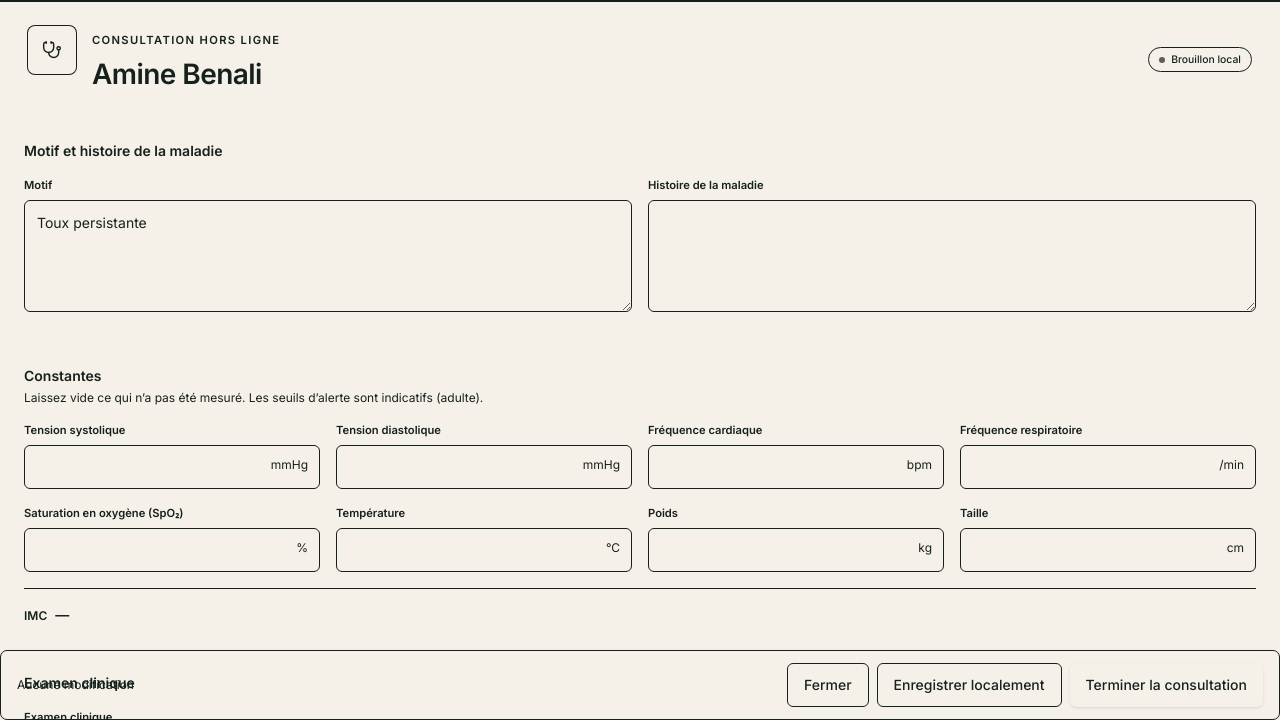
finishing the consultation › waits for a save in progress instead of losing the click (blur, then click on Terminer)
The width and height of the screenshot is (1280, 720).
Replace the text in the text box labelled "Motif" with "Toux" at (328, 256), box [24,200,632,312]
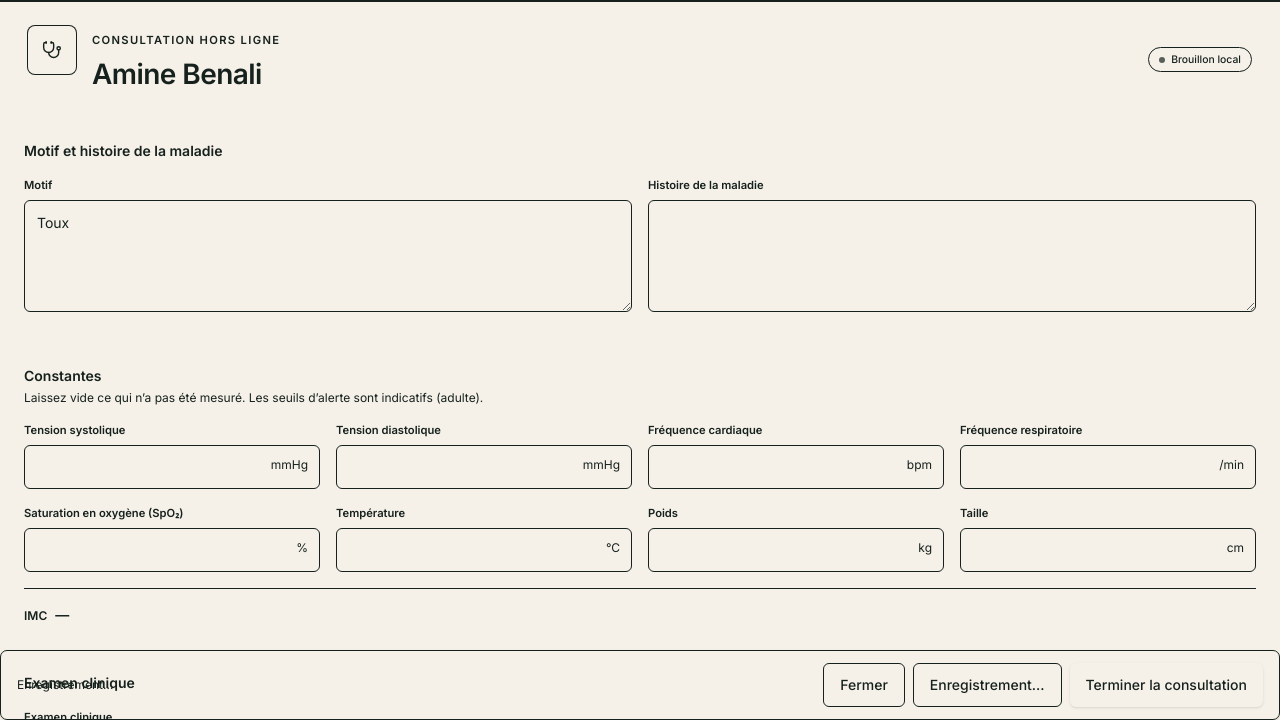
Click the button "Terminer la consultation" at (1166, 685), box [1070,663,1263,707]
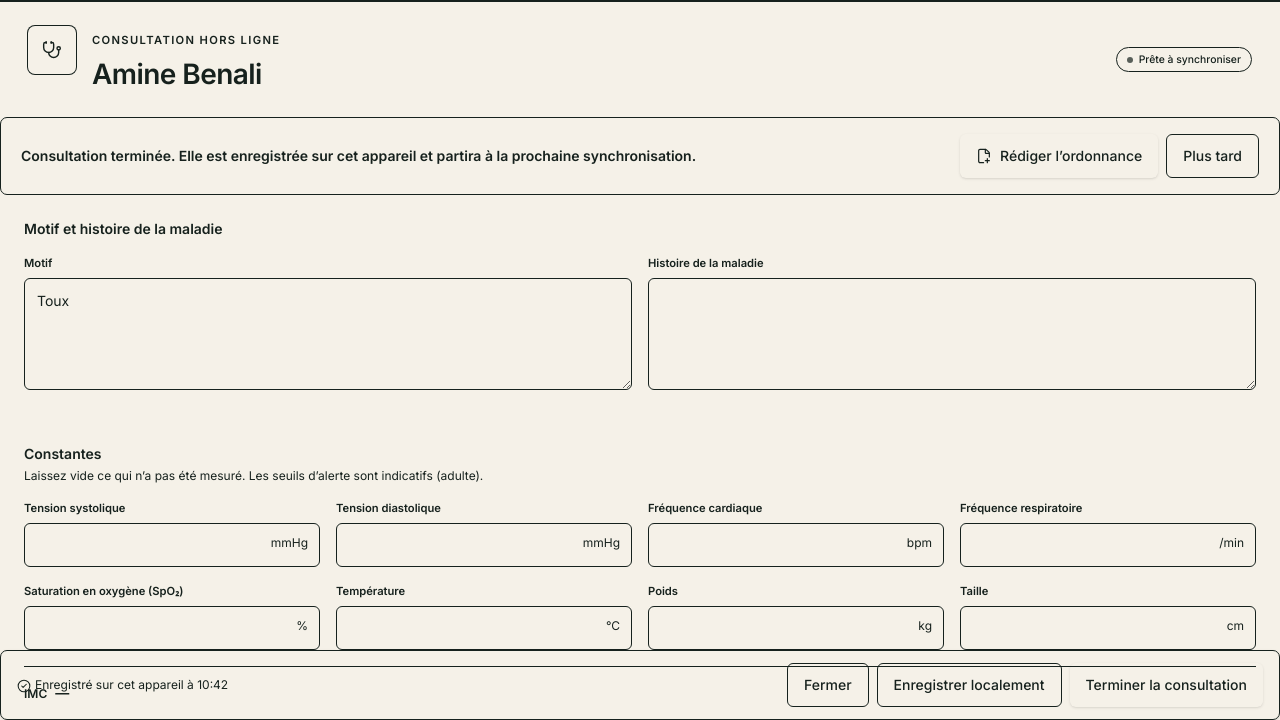
Check: the 1st message is shown, box [0,117,1279,195]
